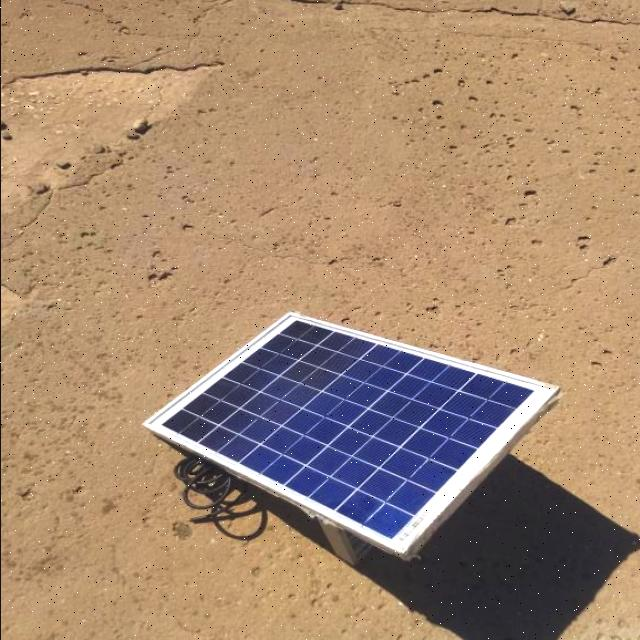Normal Solar Panel: (146, 316, 554, 554)
